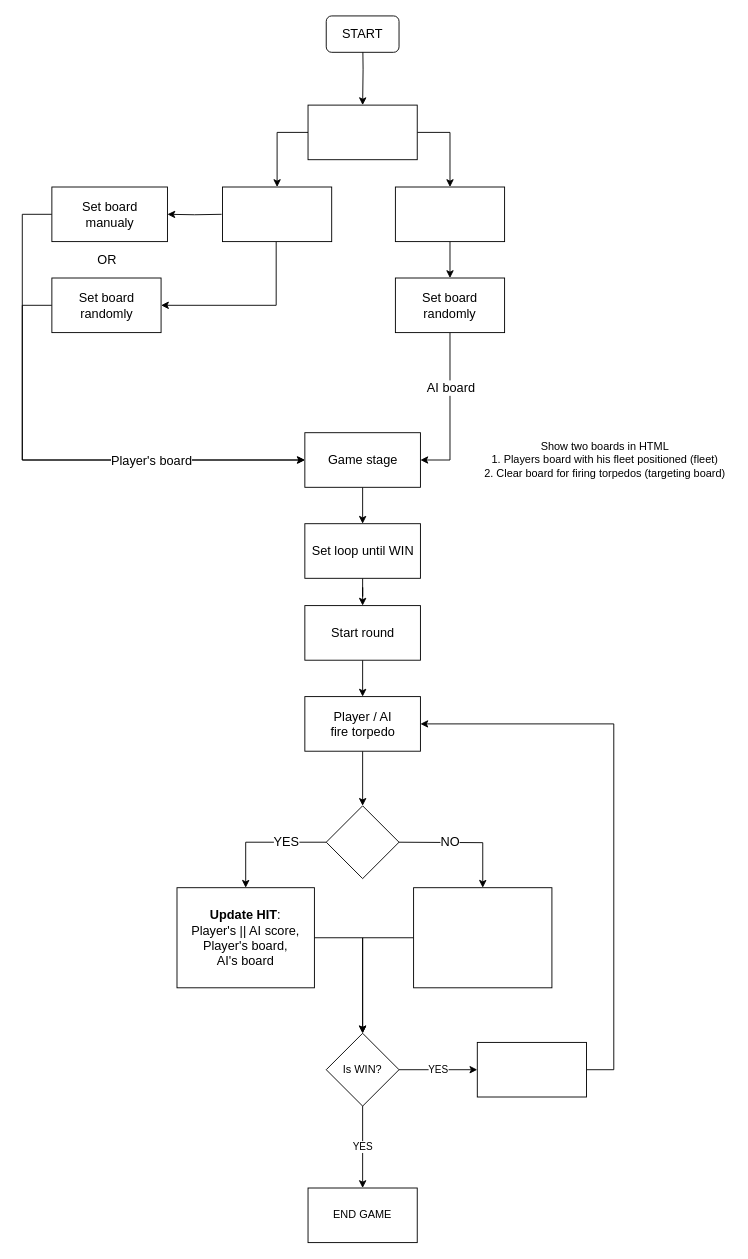
The diagram is 748 pixels wide and 1259 high, and some of its shapes have lost their labels. The centre of each missing label's shape, as x and y in pixels:
"Init board for AI" belongs at [449,214].
"Init board for player" belongs at [277,214].
"Is HIT?" belongs at [362,842].
"Setting stage" belongs at [362,132].
"Switch players" belongs at [531,1069].
"Update MISS : Player's board, AI's board" belongs at [482,937].
